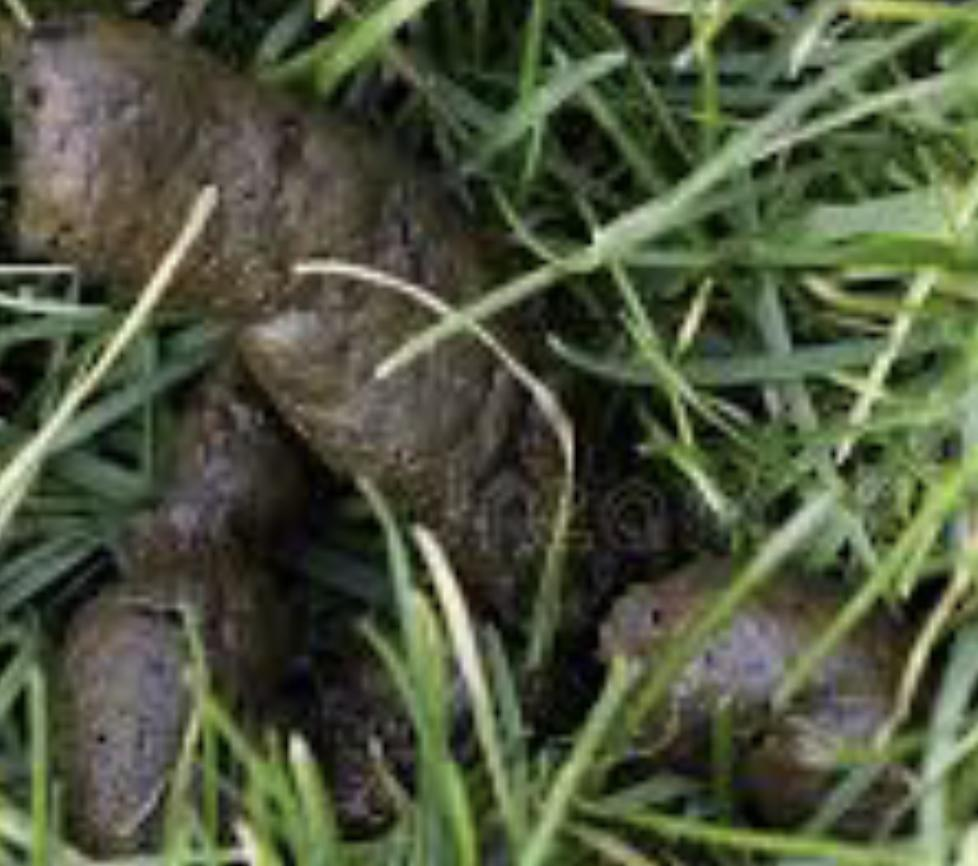dog_poop: (1, 1, 977, 865)
